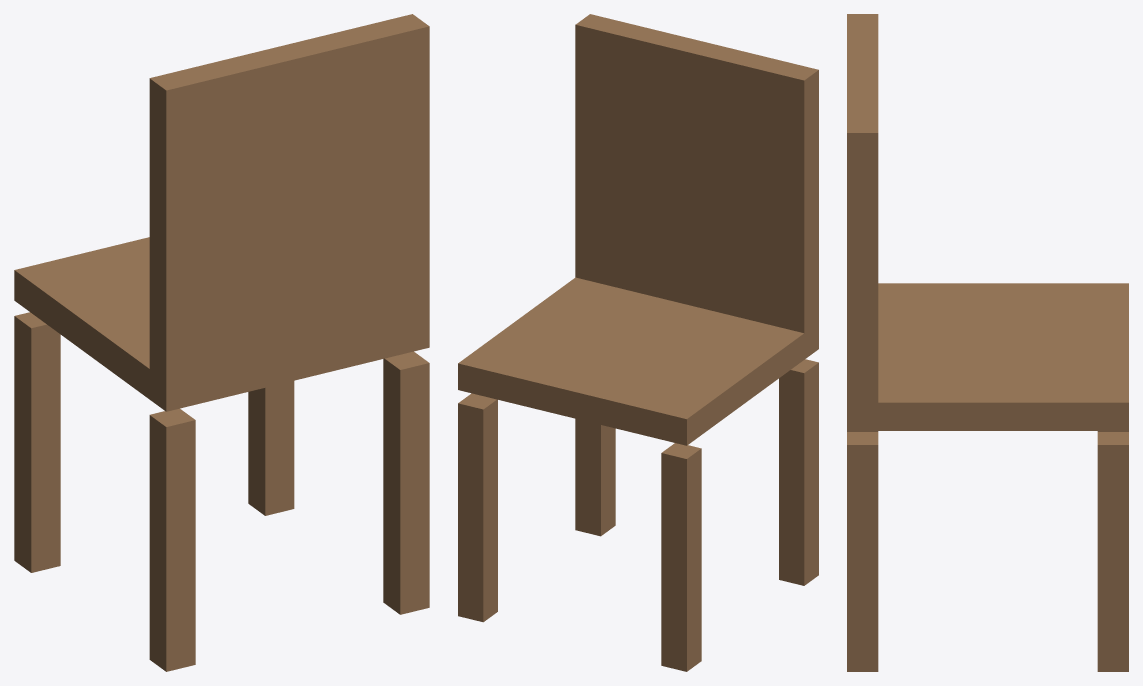
Rendered from Chair.fbx.
The picture shows the model from 3 angles, left to right: view 1: azimuth 30°, elevation 25°; view 2: azimuth 150°, elevation 25°; view 3: azimuth 270°, elevation 25°; orthographic projection. The views are drawn at different scales.
Parts seen in each view (by area): view 1: Chair; view 2: Chair; view 3: Chair.
Part boxes in pixels (left/top/right/bottom): Chair: left=14, top=14, right=429, bottom=671; Chair: left=458, top=14, right=818, bottom=671; Chair: left=847, top=14, right=1128, bottom=671.
Bounding box in the file's own units: 0.45 × 0.95 × 0.45.
